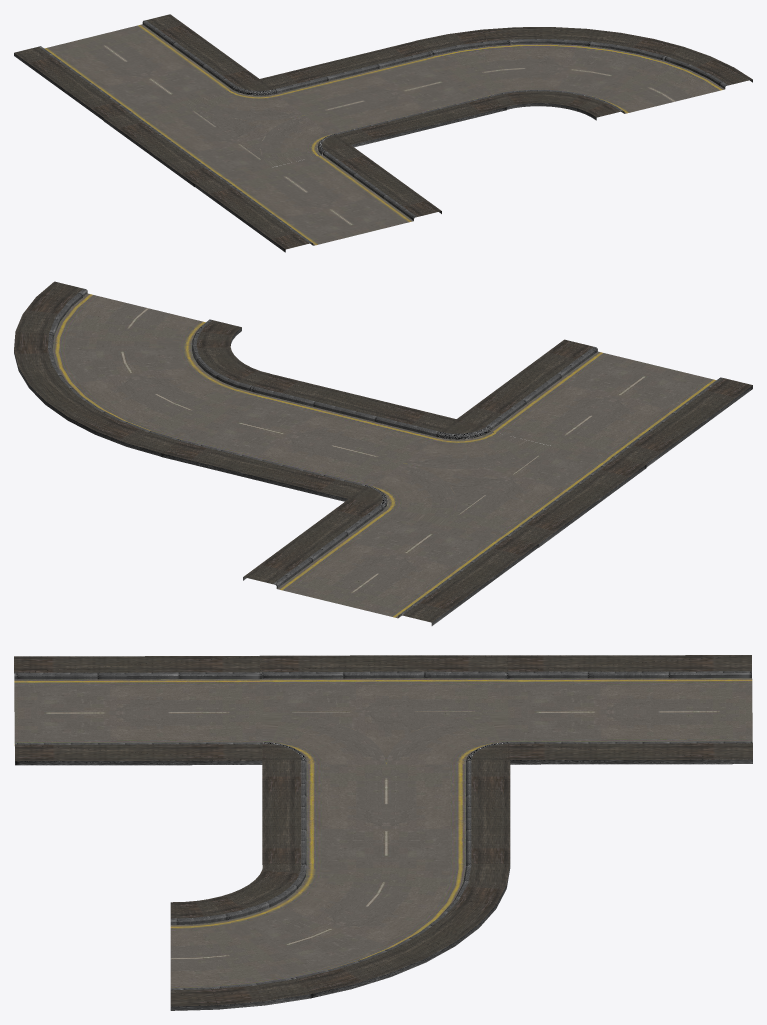
Rendered from J字路路.fbx.
3 views of the same model, one above another, from view 1: azimuth 30°, elevation 25°; view 2: azimuth 150°, elevation 25°; view 3: azimuth 270°, elevation 25° (orthographic). The views are drawn at different scales.
Parts seen in each view (by area): view 1: polySurface201; view 2: polySurface201; view 3: polySurface201.
Part boxes in pixels (x1,y1,x2,y2): polySurface201: [14, 14, 752, 252]; polySurface201: [14, 281, 752, 625]; polySurface201: [14, 655, 752, 1010].
Size of the model in its own units: 65.39 by 0.4069 by 58.06.
